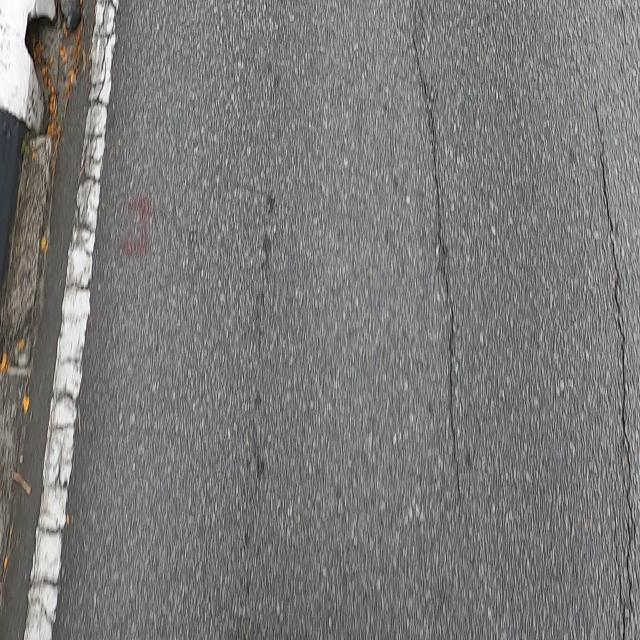Retak-Memanjang: (409, 28, 462, 502), (591, 109, 638, 638)
